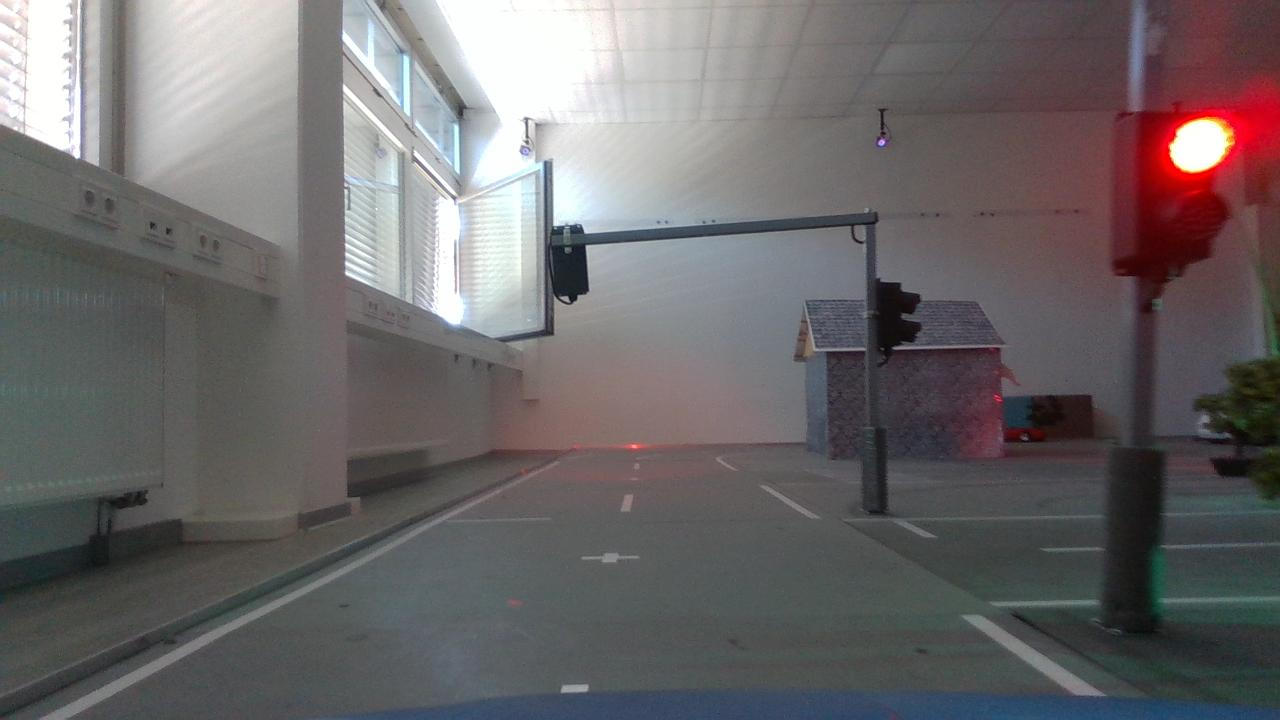traffic_light_red: (1098, 97, 1235, 294)
